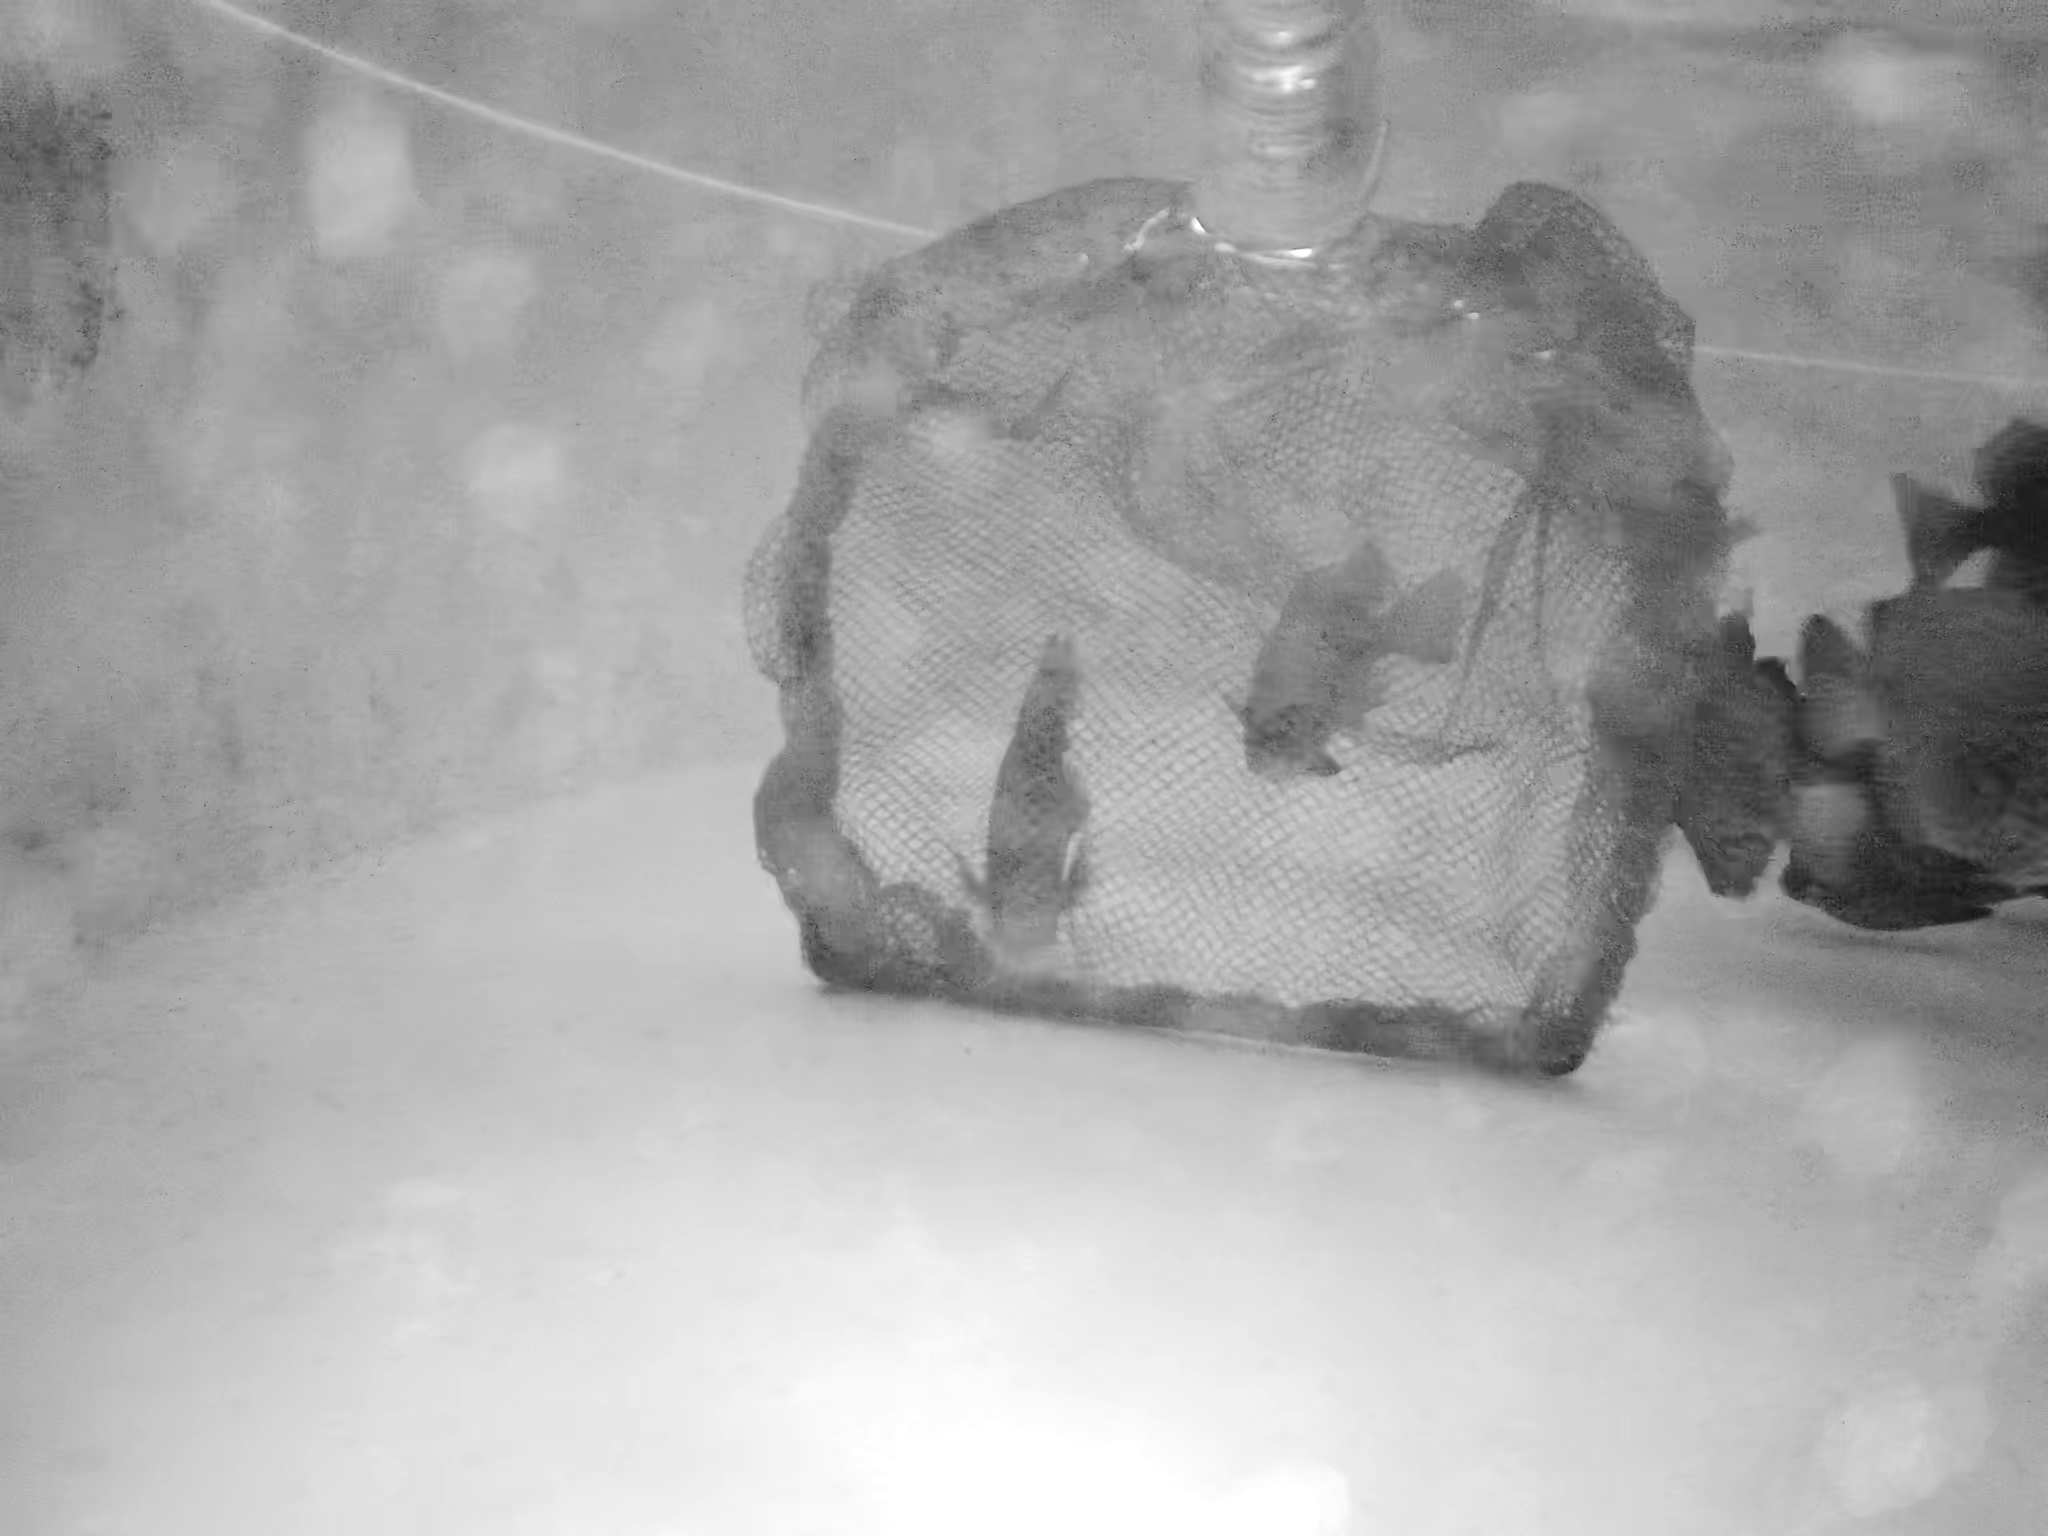fish: (1758, 563, 2048, 902), (1248, 542, 1477, 795), (956, 615, 1116, 965), (1666, 628, 1808, 899), (1888, 399, 2048, 573)
